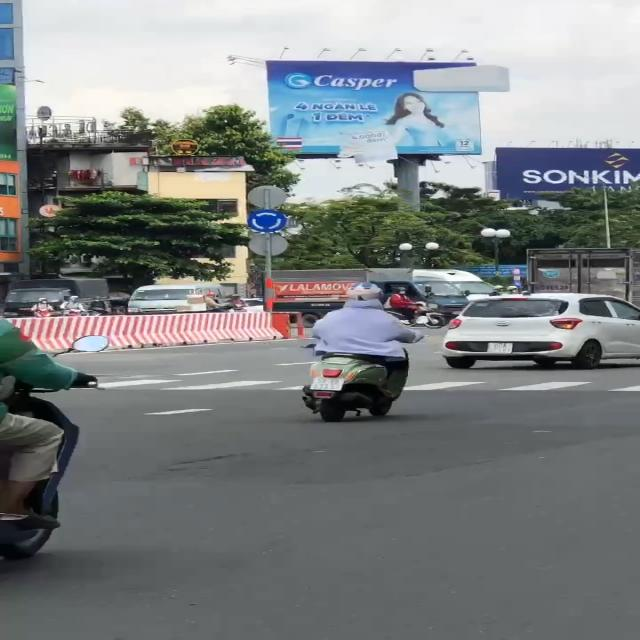Bien bao noi giao nhau chay theo vong xuyen: (245, 209, 288, 233)
